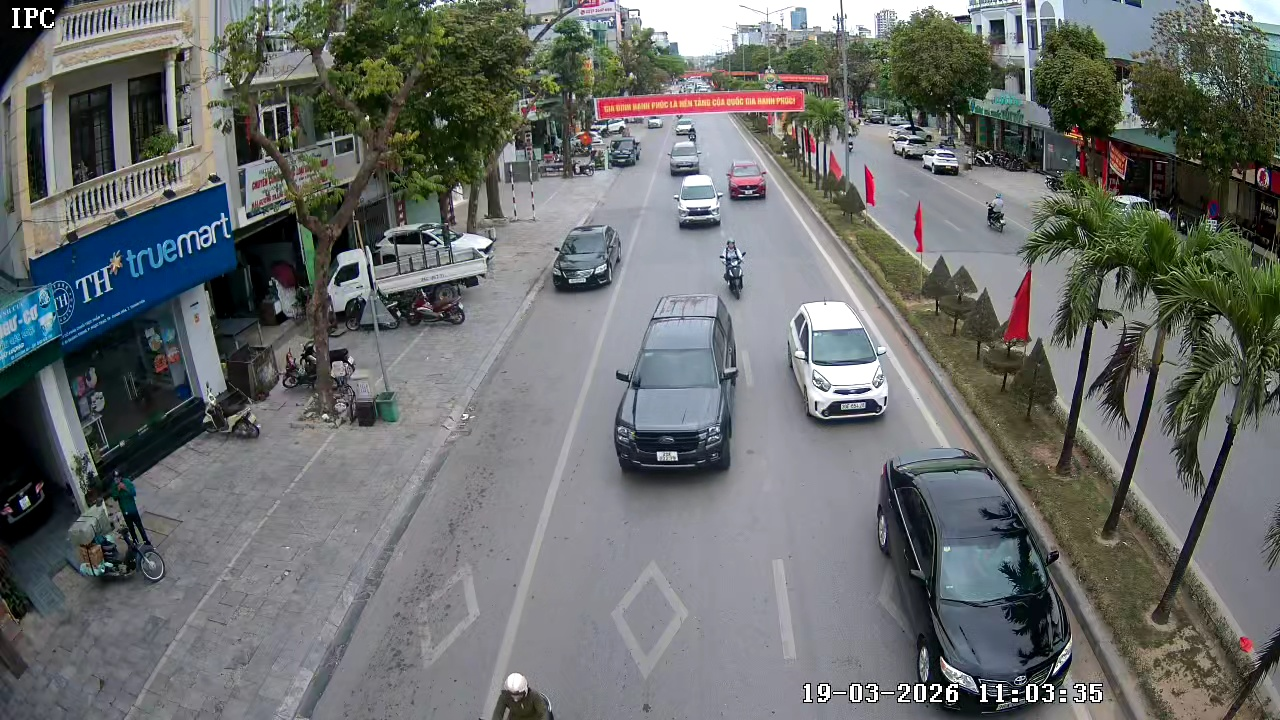car: (874, 446, 1081, 711), (613, 292, 741, 475), (786, 300, 889, 421), (551, 220, 624, 291), (675, 171, 724, 229), (725, 157, 769, 201), (667, 142, 701, 176)
motorbike: (403, 263, 467, 327), (719, 236, 748, 300), (984, 190, 1008, 234)
truck: (609, 133, 642, 168)
